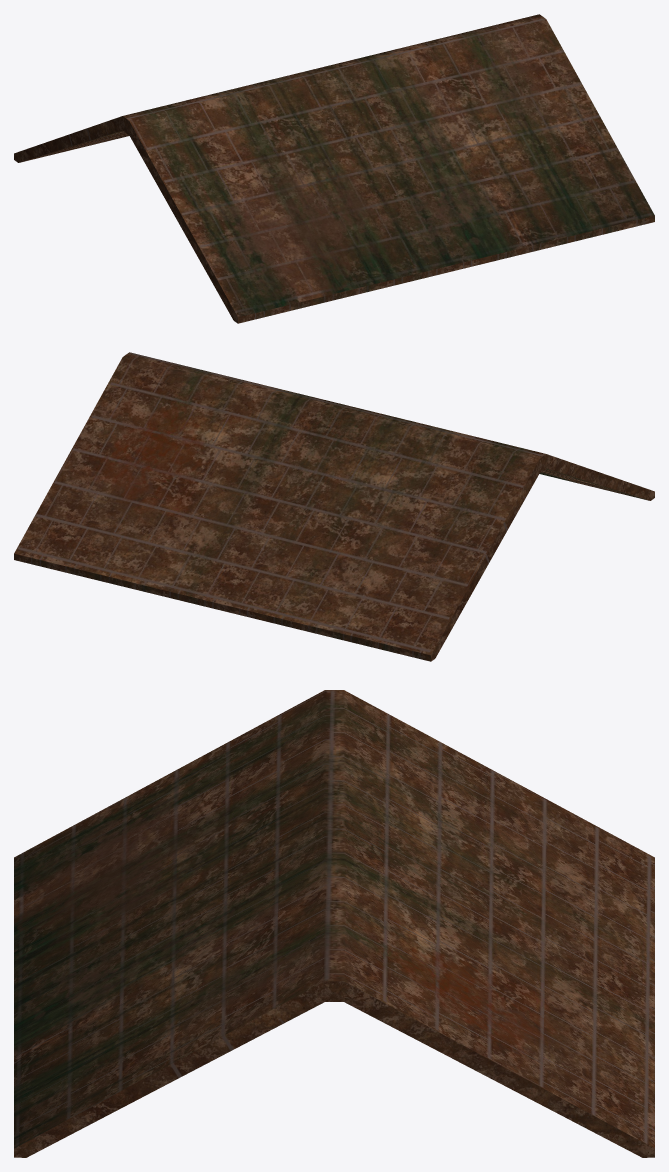
Rendered from roof_cabin_asset.glb.
3 renders of one model, top to bottom at view 1: azimuth 30°, elevation 25°; view 2: azimuth 150°, elevation 25°; view 3: azimuth 270°, elevation 25°, orthographic. The views are drawn at different scales.
Parts seen in each view (by area): view 1: pCube50; view 2: pCube50; view 3: pCube50.
Part boxes in pixels (<box>): pCube50: <box>14,14,654,323</box>; pCube50: <box>14,352,654,661</box>; pCube50: <box>14,690,654,1157</box>.
Bounding box in the file's own units: 1.18 × 0.3329 × 1.1.
Materials: 1 (1 with a texture image).
